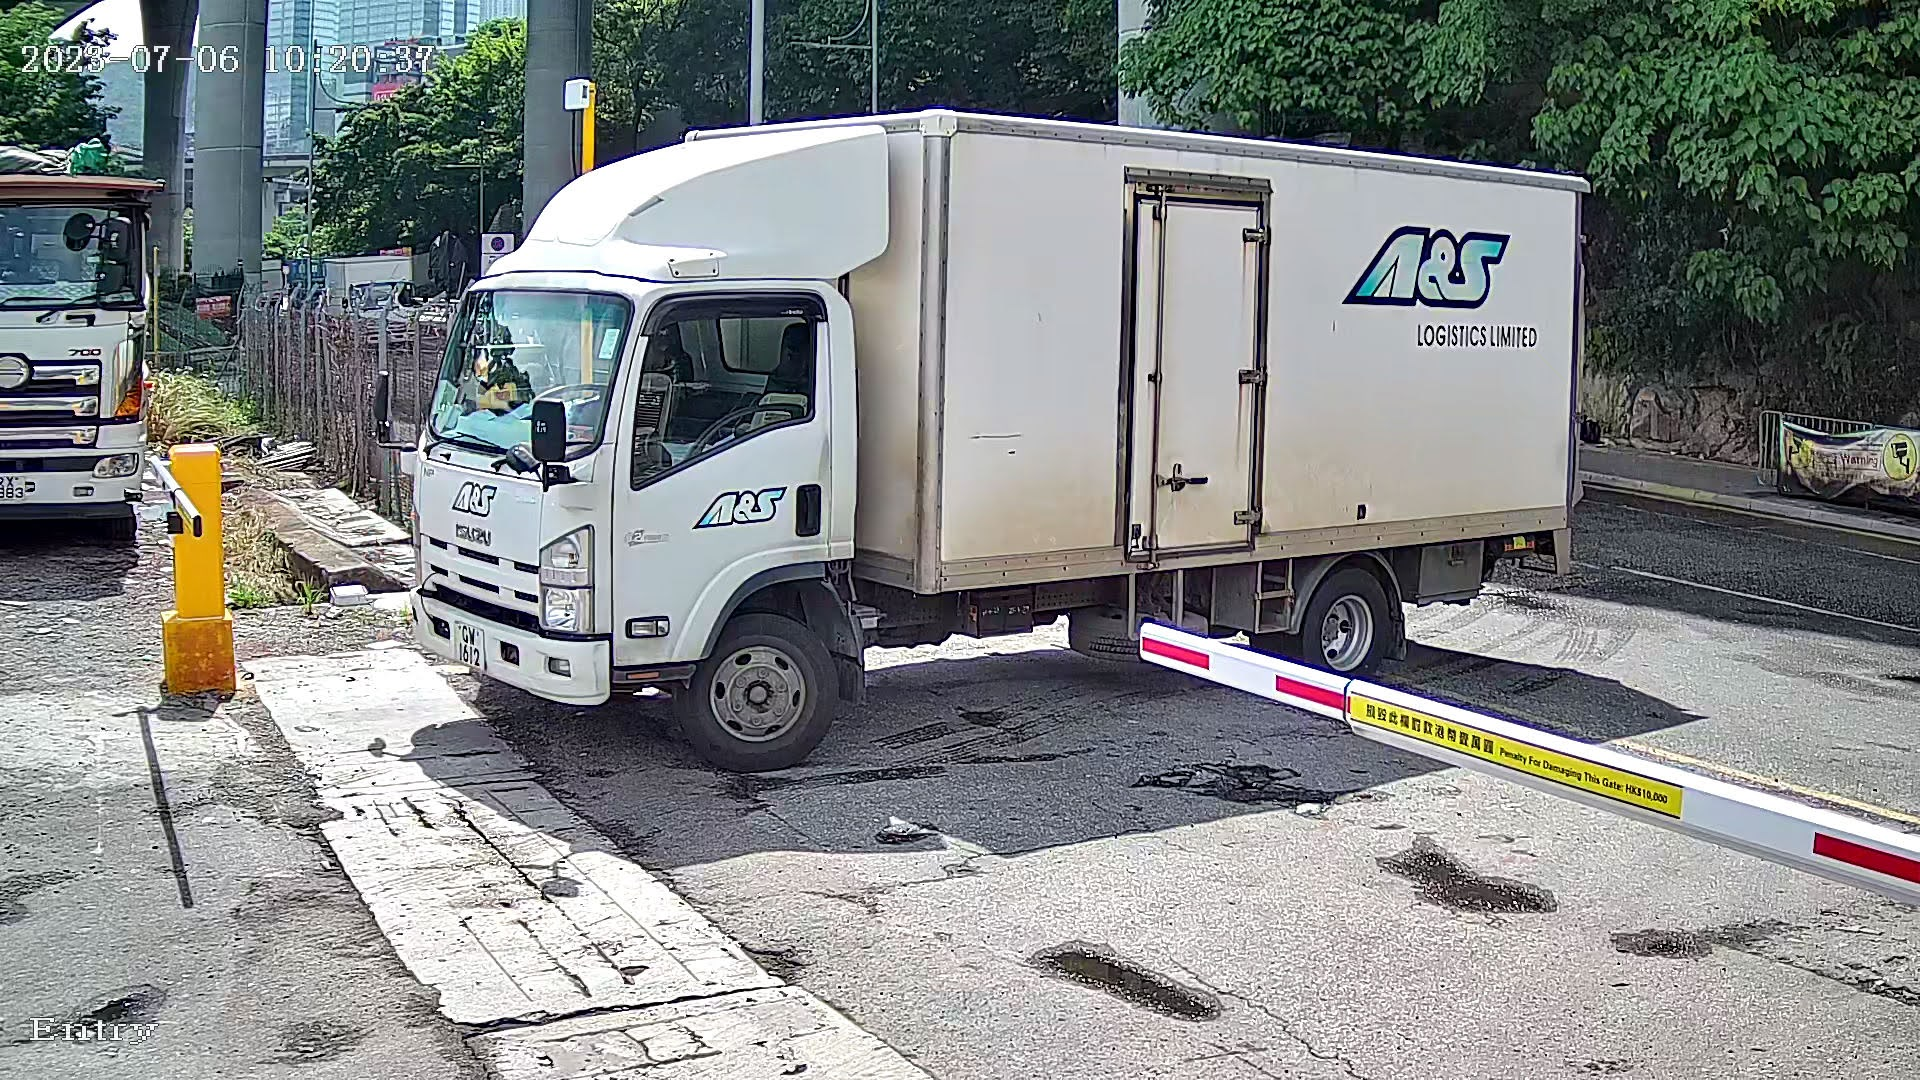truck_small: (388, 37, 1629, 799)
